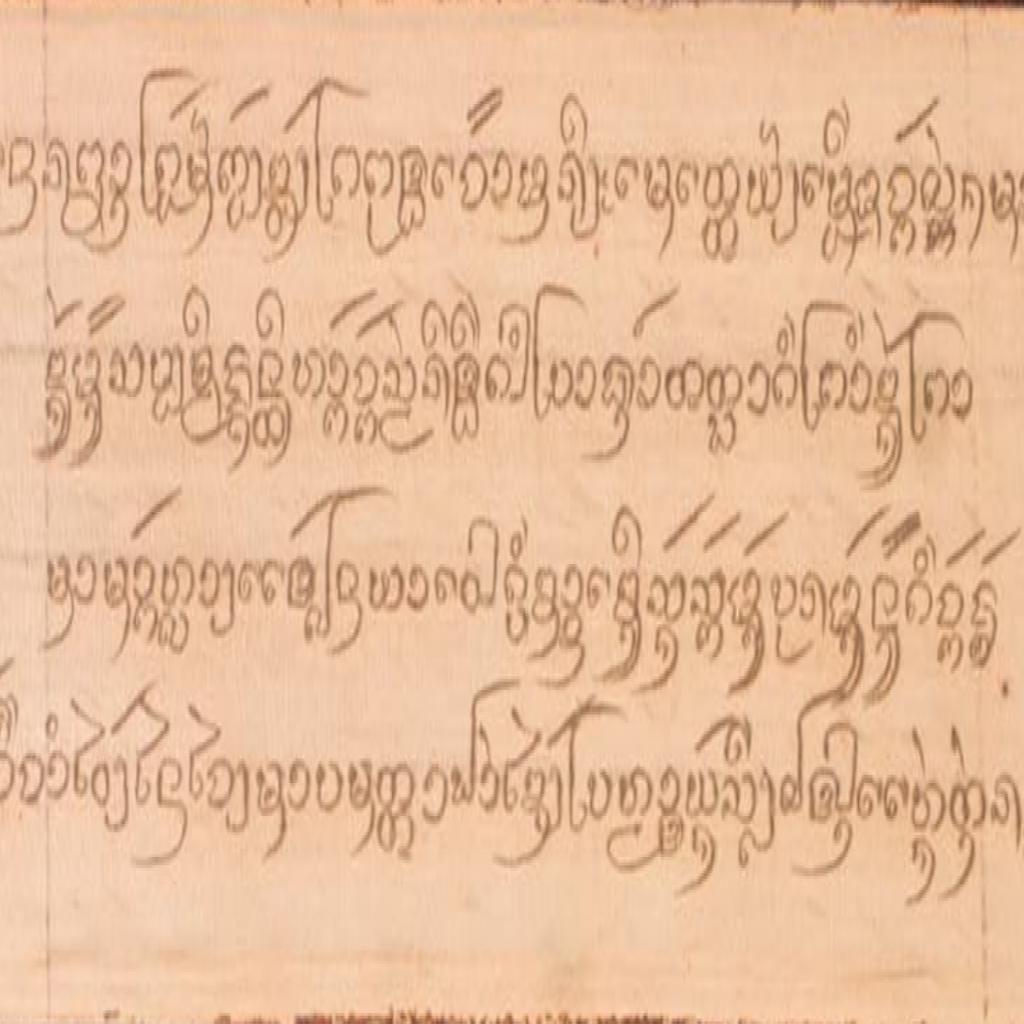LN032: (684, 764, 722, 826)
